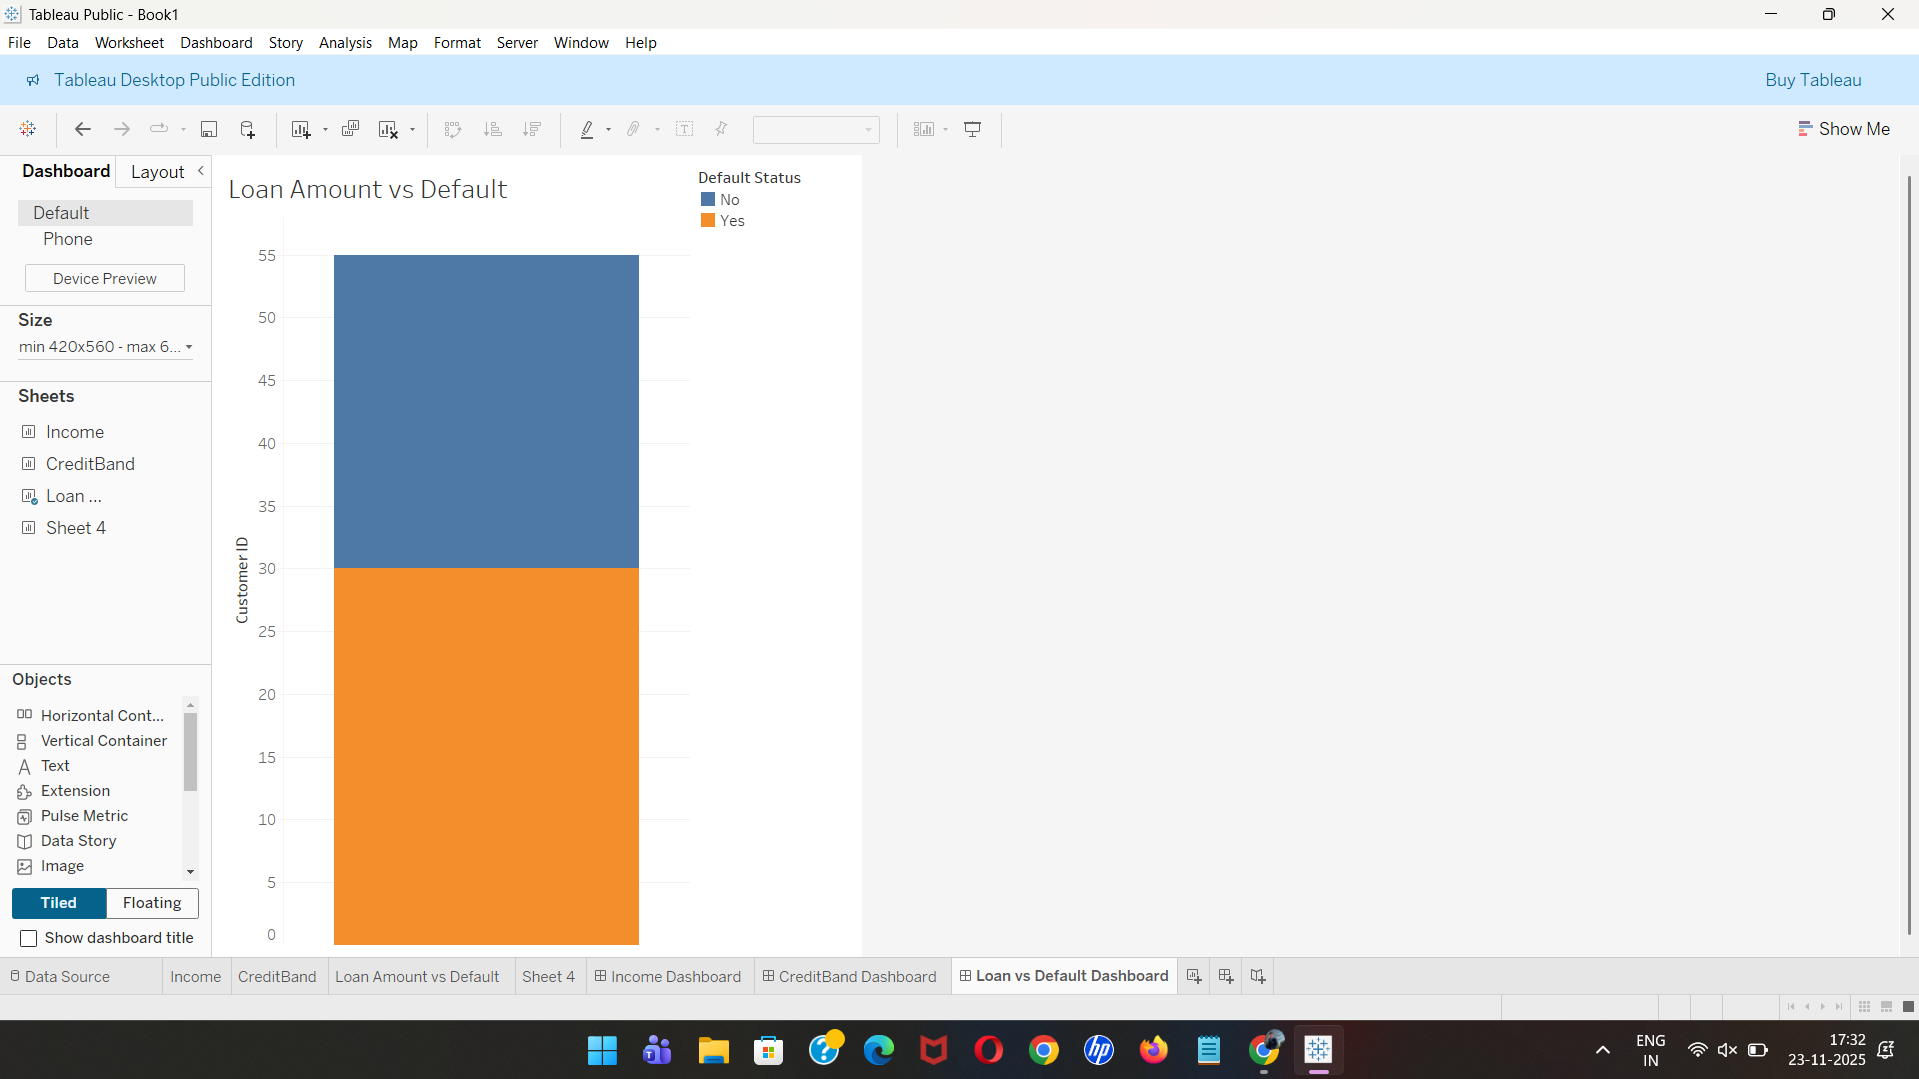

This screenshot's page, from the dashboard's own definition file:
{"tool":"tableau","page":{"name":"Loan vs Default Dashboard","canvas":[650,860],"ordinal":2},"visuals":[{"type":"worksheet","title":"Loan Amount vs Default","mark":"Automatic","rows":["CustomerID"],"box":[8,8.6,474,842.8]},{"type":"legend","title":"Loan Amount vs Default","param":"[federated.1nku3n11mbzdj61bmsmut0y6azl3].[none:DefaultStatus:nk]","box":[482,8.6,160,77.2]}]}

Visuals, with their boxes on the page's 650x860 design canvas (x1, y1, x2, y2). These are canvas units, not pixel positions in the 1919x1079 screenshot, which may show the page scaled, cropped or inside an application window:
"Loan Amount vs Default" worksheet: locate(8, 9, 482, 851)
"Loan Amount vs Default" legend: locate(482, 9, 642, 86)
